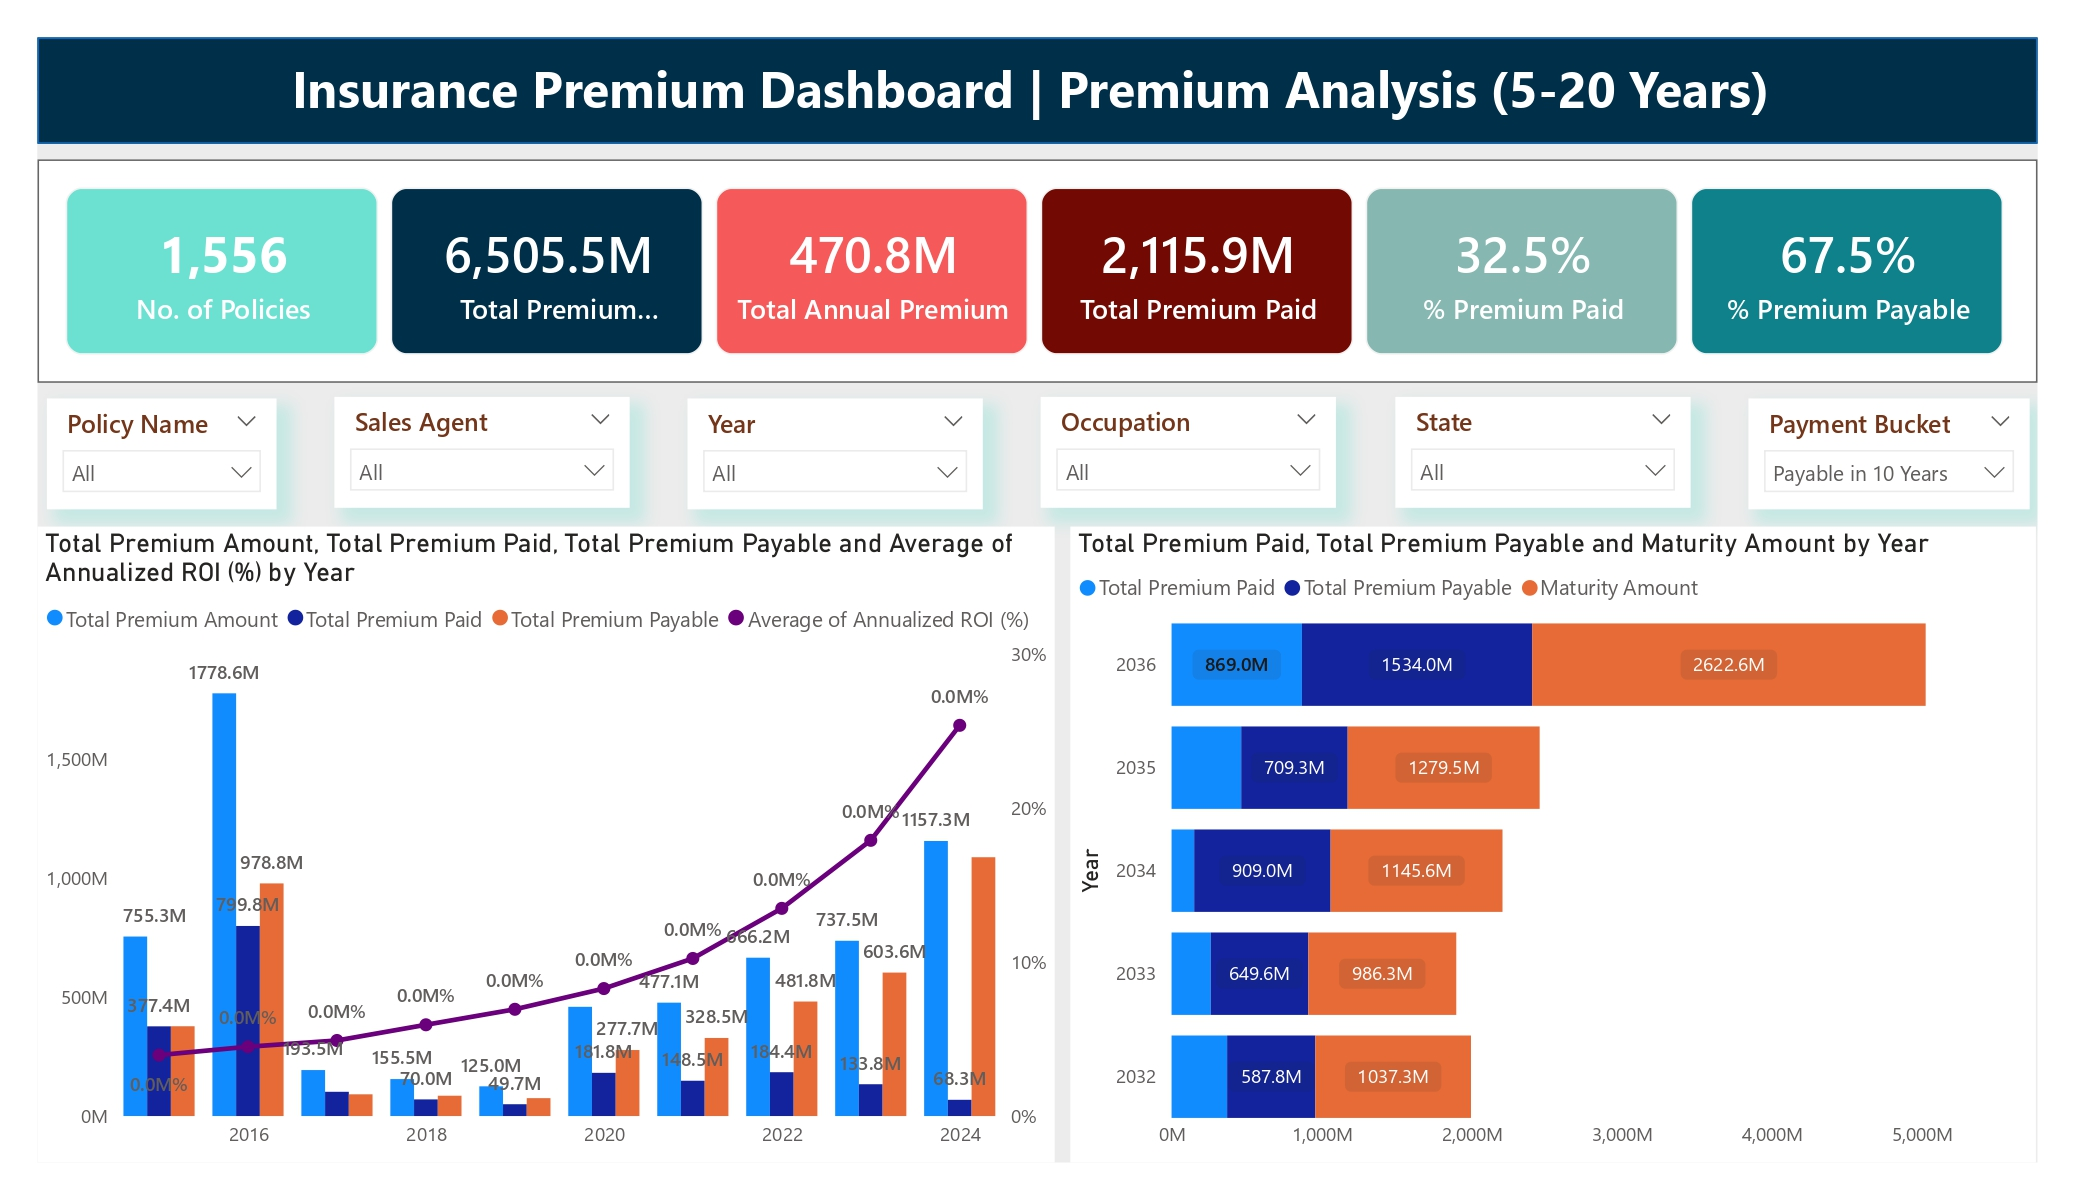

This screenshot's page, from the dashboard's own definition file:
{"tool":"powerbi","page":{"name":"Comparison 3","canvas":[1280,720],"ordinal":4},"visuals":[{"type":"slicer","fields":{"Values":["DM Policy_Protection_Plan.Policy Name"]},"box":[6.2,231.4,146.8,70.9],"z":0},{"type":"shape","box":[0,0,1280,68.4],"z":1000,"group":"g1"},{"type":"slicer","fields":{"Values":["DM Insurance_Agent_Table.Sales Agent"]},"box":[190.1,230.1,189.1,70.9],"z":1000},{"type":"textbox","box":[5.6,5,1268.8,58.5],"z":2000,"group":"g1"},{"type":"slicer","fields":{"Values":["FCT Insurance_Policy_Table.Date of Purchase.Variation.Date Hierarchy.Year"]},"box":[416.2,231.4,189.1,70.9],"z":2000},{"type":"slicer","fields":{"Values":["DM Customer_Detail_Table.State"]},"box":[868.5,230.1,189.1,70.9],"z":3000},{"type":"slicer","fields":{"Values":["DM Customer_Detail_Table.Occupation"]},"box":[642.4,230.1,189.1,70.9],"z":4000},{"type":"cardVisual","fields":{"Data":["CountNonNull(DM Customer_Detail_Table.Customer ID)","Sum(FCT Insurance_Policy_Table.Total Premium Amount)","Sum(FCT Insurance_Policy_Table.Total Annual Premium)","Sum(FCT Insurance_Policy_Table.Total Premium Paid)","DM Customer_Detail_Table.% Premium Paid","DM Customer_Detail_Table.% Premium Payable"]},"box":[0,78.4,1280,143.1],"z":5000},{"type":"group","id":"g1","title":"Group 1","box":[0,0,1280,68.4],"z":6000},{"type":"lineClusteredColumnComboChart","fields":{"Y":["Sum(FCT Insurance_Policy_Table.Total Premium Amount)","Sum(FCT Insurance_Policy_Table.Total Premium Paid)","Sum(FCT Insurance_Policy_Table.Total Premium Payable)"],"Y2":["Avg(FCT Insurance_Policy_Table.Annualized ROI (%))"],"Category":["FCT Insurance_Policy_Table.Start Date.Variation.Date Hierarchy.Year"]},"box":[0,313.5,651.3,406.8],"z":7000},{"type":"slicer","fields":{"Values":["FCT Insurance_Policy_Table.Payment Bucket"]},"box":[1094.7,231.4,180.4,70.9],"z":8000},{"type":"barChart","fields":{"Y":["Sum(FCT Insurance_Policy_Table.Total Premium Paid)","Sum(FCT Insurance_Policy_Table.Total Premium Payable)","Sum(FCT Insurance_Policy_Table.Maturity Amount)"],"Category":["FCT Insurance_Policy_Table.Tenure Date.Variation.Date Hierarchy.Year"]},"box":[660.5,313.5,618.2,406.8],"z":9000}]}

Visuals, with their boxes on the page's 1280x720 design canvas (x1, y1, x2, y2). These are canvas units, not pixel positions in the 2075x1200 screenshot, which may show the page scaled, cropped or inside an application window:
slicer - DM Policy_Protection_Plan.Policy Name: pyautogui.locateOnScreen(6, 231, 153, 302)
shape: pyautogui.locateOnScreen(0, 0, 1280, 68)
slicer - DM Insurance_Agent_Table.Sales Agent: pyautogui.locateOnScreen(190, 230, 379, 301)
textbox: pyautogui.locateOnScreen(6, 5, 1274, 64)
slicer - FCT Insurance_Policy_Table.Date of Purchase.Variation.Date Hierarchy.Year: pyautogui.locateOnScreen(416, 231, 605, 302)
slicer - DM Customer_Detail_Table.State: pyautogui.locateOnScreen(868, 230, 1058, 301)
slicer - DM Customer_Detail_Table.Occupation: pyautogui.locateOnScreen(642, 230, 832, 301)
cardVisual - CountNonNull(DM Customer_Detail_Table.Customer ID) x Sum(FCT Insurance_Policy_Table.Total Premium Amount): pyautogui.locateOnScreen(0, 78, 1280, 222)
"Group 1" group: pyautogui.locateOnScreen(0, 0, 1280, 68)
lineClusteredColumnComboChart - Sum(FCT Insurance_Policy_Table.Total Premium Amount) x Sum(FCT Insurance_Policy_Table.Total Premium Paid): pyautogui.locateOnScreen(0, 314, 651, 720)
slicer - FCT Insurance_Policy_Table.Payment Bucket: pyautogui.locateOnScreen(1095, 231, 1275, 302)
barChart - Sum(FCT Insurance_Policy_Table.Total Premium Paid) x Sum(FCT Insurance_Policy_Table.Total Premium Payable): pyautogui.locateOnScreen(660, 314, 1279, 720)
